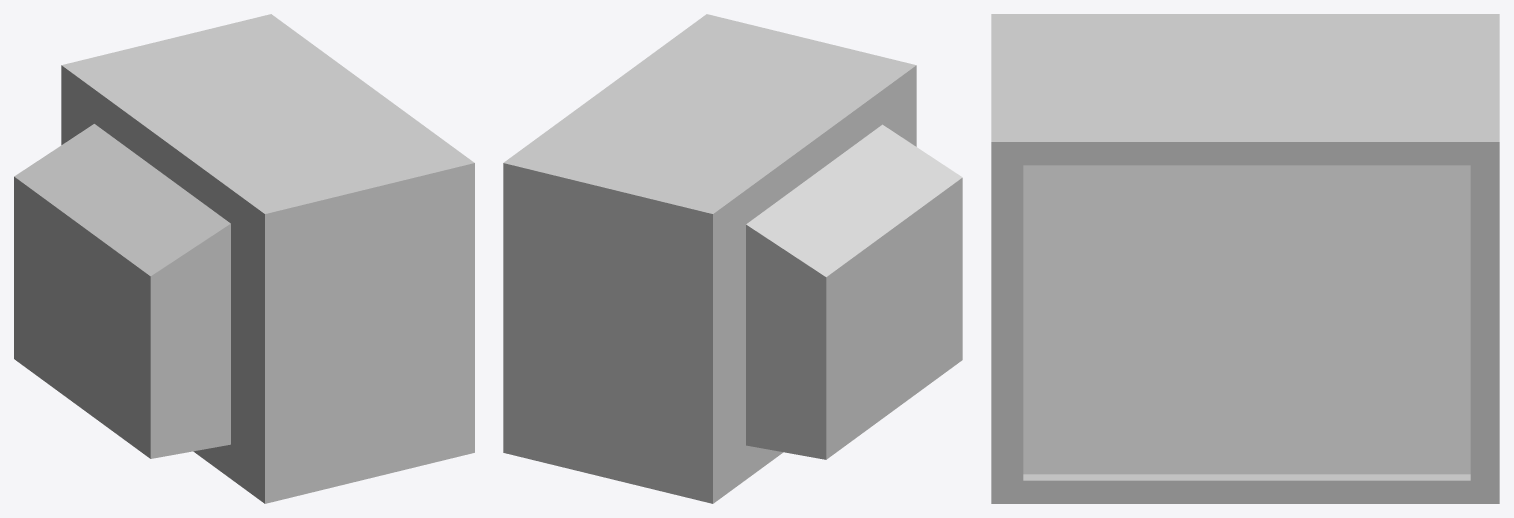
Rendered from PCMonitor.glb.
3 views of the same model, side by side, from view 1: azimuth 30°, elevation 25°; view 2: azimuth 150°, elevation 25°; view 3: azimuth 270°, elevation 25° (orthographic). The views are drawn at different scales.
Visible parts, largest first — view 1: Case; view 2: Case; view 3: Screen, Case.
Part boxes in pixels (x1=…): Case: x1=14, y1=14, x2=474, y2=503; Case: x1=503, y1=14, x2=962, y2=503; Screen: x1=1023, y1=165, x2=1470, y2=474; Case: x1=991, y1=14, x2=1499, y2=503.
Bounding box in the file's own units: 0.9758 × 0.9315 × 1.19.
Materials: 2 (1 with a texture image).
